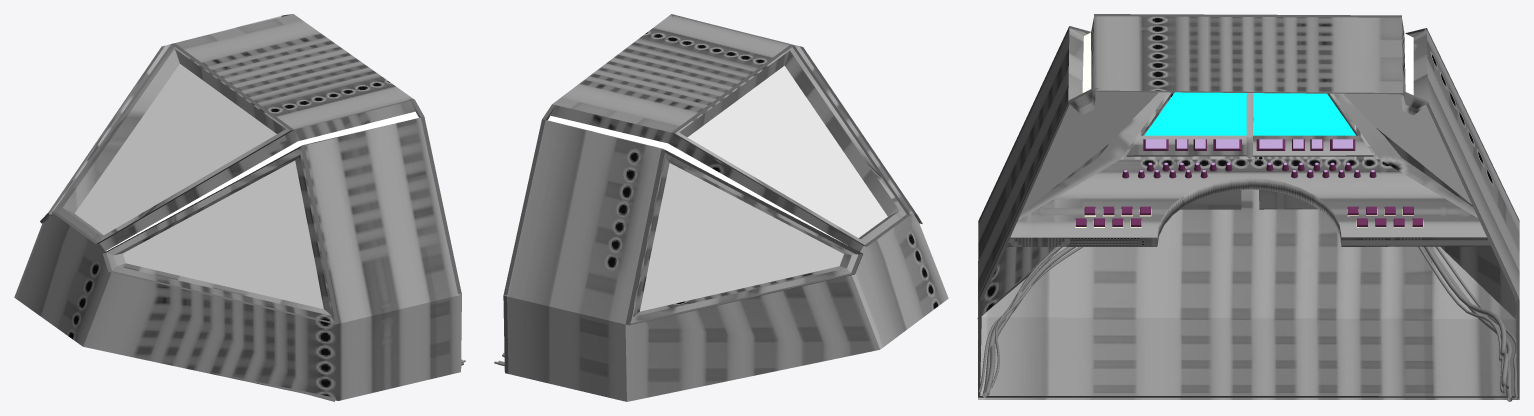
File: Cabina_02.fbx
3 views of the same model, side by side, from view 1: azimuth 30°, elevation 25°; view 2: azimuth 150°, elevation 25°; view 3: azimuth 270°, elevation 25° (orthographic). The views are drawn at different scales.
Parts seen in each view (by area): view 1: CABINA; view 2: CABINA; view 3: CABINA, MESA, SCREENS, CABLES, DeckSCREEN, Deck, Dimmer, Dimmer.001.
Part boxes in pixels (box(x1,y1,x2,y2)): CABINA: box(14, 14, 461, 401); CABINA: box(503, 14, 948, 401); CABINA: box(977, 14, 1519, 399); MESA: box(1006, 92, 1490, 246); SCREENS: box(1144, 92, 1355, 135); CABLES: box(979, 246, 1517, 401); DeckSCREEN: box(1143, 139, 1355, 150); Deck: box(1075, 206, 1423, 227); Dimmer: box(1146, 162, 1351, 171); Dimmer.001: box(1122, 169, 1376, 178).
Size of the model in its own units: 434 by 313 by 499.
